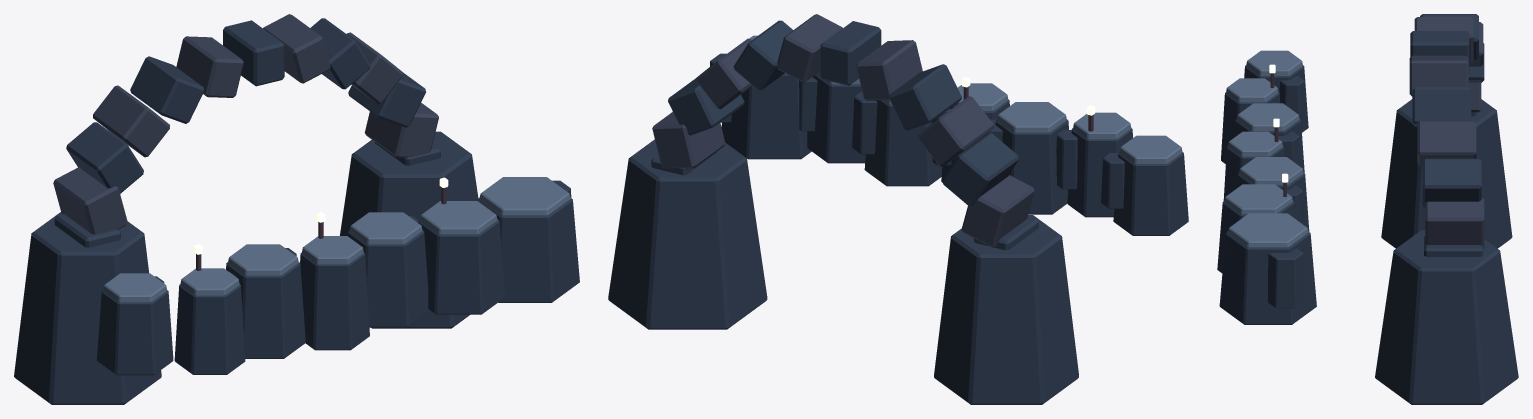
Rendered from sea_arch_pillars.glb.
3 renders of one model, left to right at view 1: azimuth 30°, elevation 25°; view 2: azimuth 150°, elevation 25°; view 3: azimuth 270°, elevation 25°, orthographic. The views are drawn at different scales.
Parts seen in each view (by area): view 1: SeaArchFormation_Merged, SeaArchRoot_Merged; view 2: SeaArchFormation_Merged, SeaArchRoot_Merged; view 3: SeaArchFormation_Merged, SeaArchRoot_Merged.
Part boxes in pixels (<box>): SeaArchFormation_Merged: <box>14,14,478,404</box>; SeaArchRoot_Merged: <box>97,177,579,375</box>; SeaArchFormation_Merged: <box>608,14,1078,404</box>; SeaArchRoot_Merged: <box>710,35,1188,235</box>; SeaArchFormation_Merged: <box>1375,14,1518,404</box>; SeaArchRoot_Merged: <box>1217,50,1316,324</box>.
Size of the model in its own units: 15.05 by 9.43 by 9.44.
